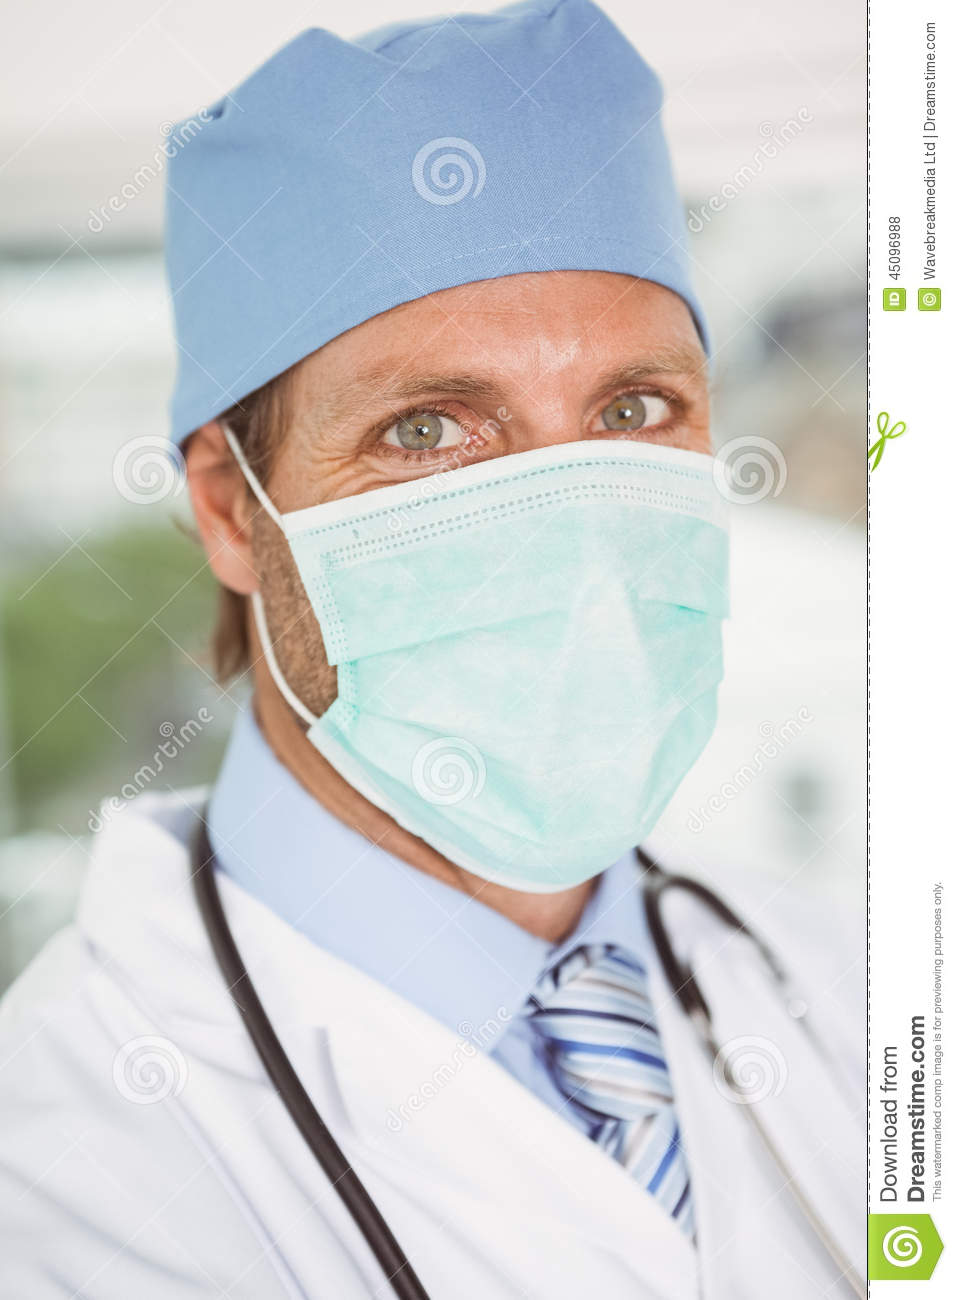mask: (264, 459, 752, 909)
